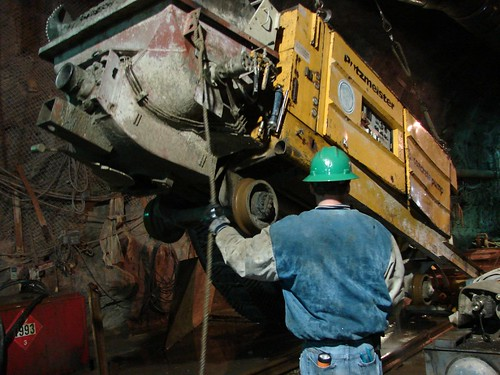person hardhat: (206, 142, 427, 375)
